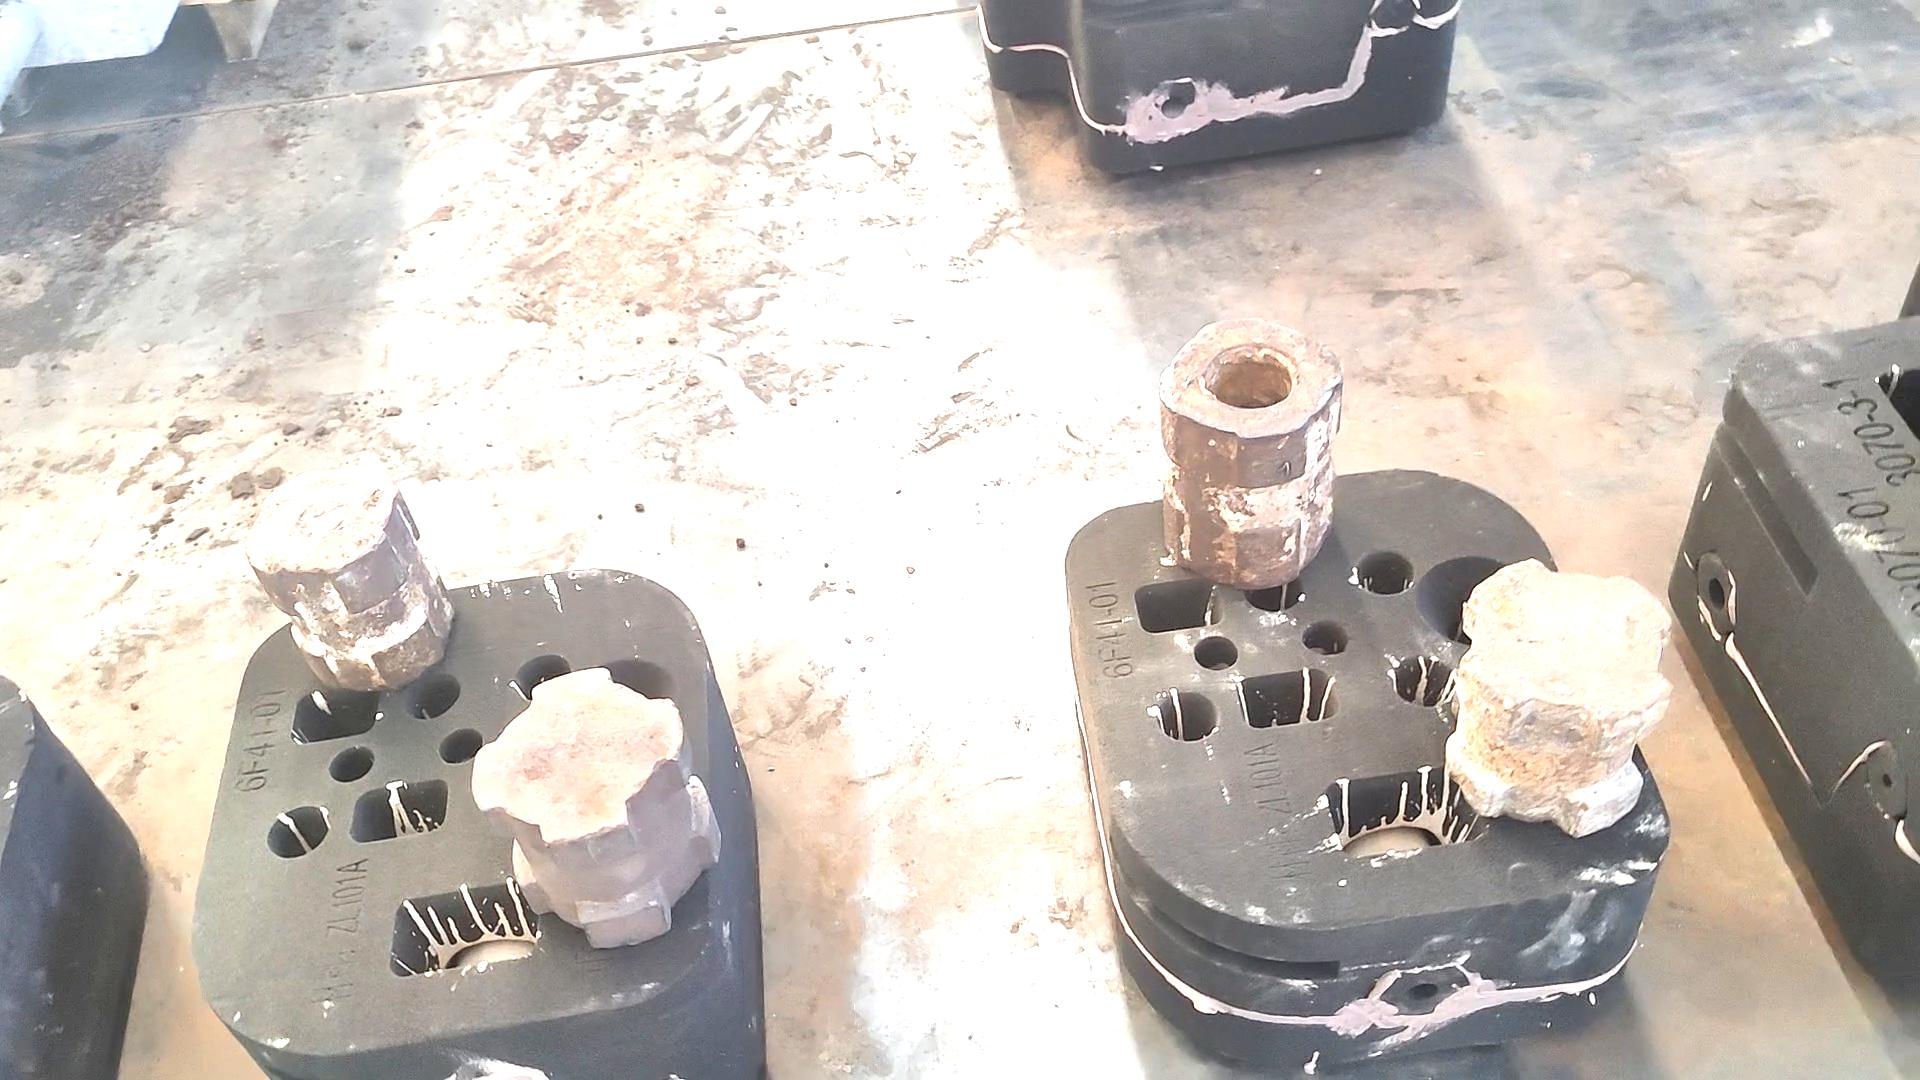pouring hole: (1415, 553, 1532, 647), (585, 661, 674, 736)
